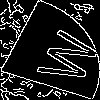W: (25, 25, 100, 87)
